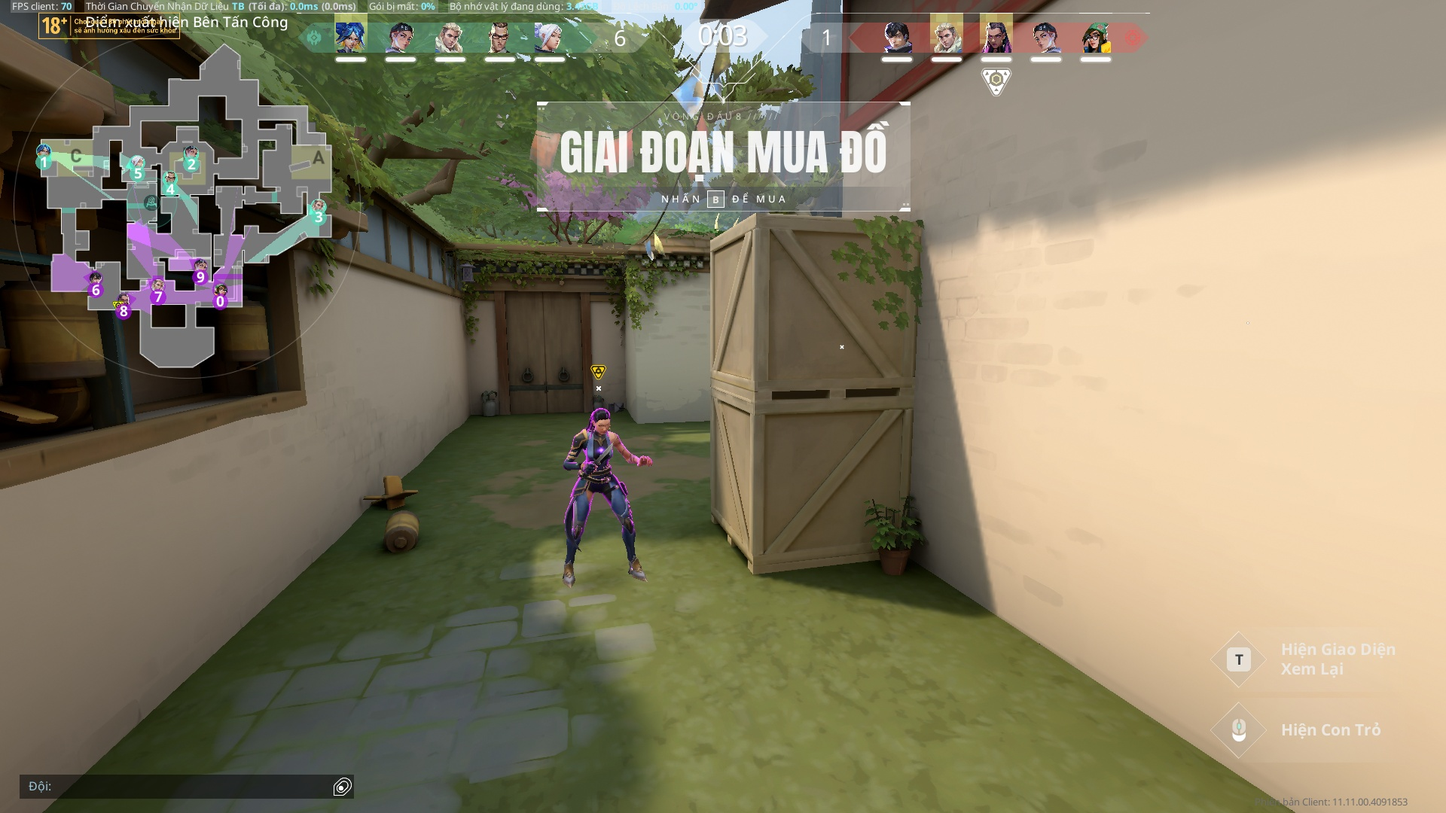body: (572, 425, 620, 464)
head: (588, 404, 611, 432)
